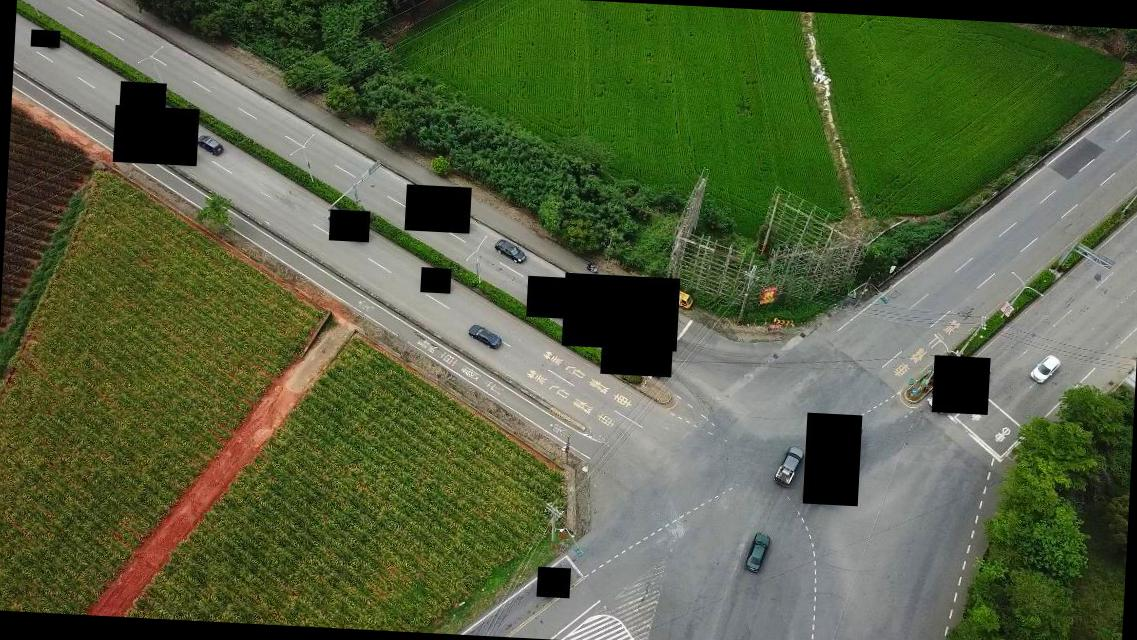vehicle: (774, 444, 802, 490), (743, 530, 771, 576), (466, 322, 504, 350), (1029, 354, 1060, 384), (492, 238, 525, 265), (664, 289, 698, 310), (195, 134, 224, 158)
